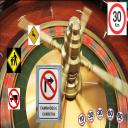NoVirarDireita: (40, 70, 58, 101)
speed_limit_30: (108, 4, 126, 34), (87, 109, 95, 123), (96, 106, 104, 120)
speed_limit_60: (106, 107, 114, 122), (116, 110, 124, 124)
